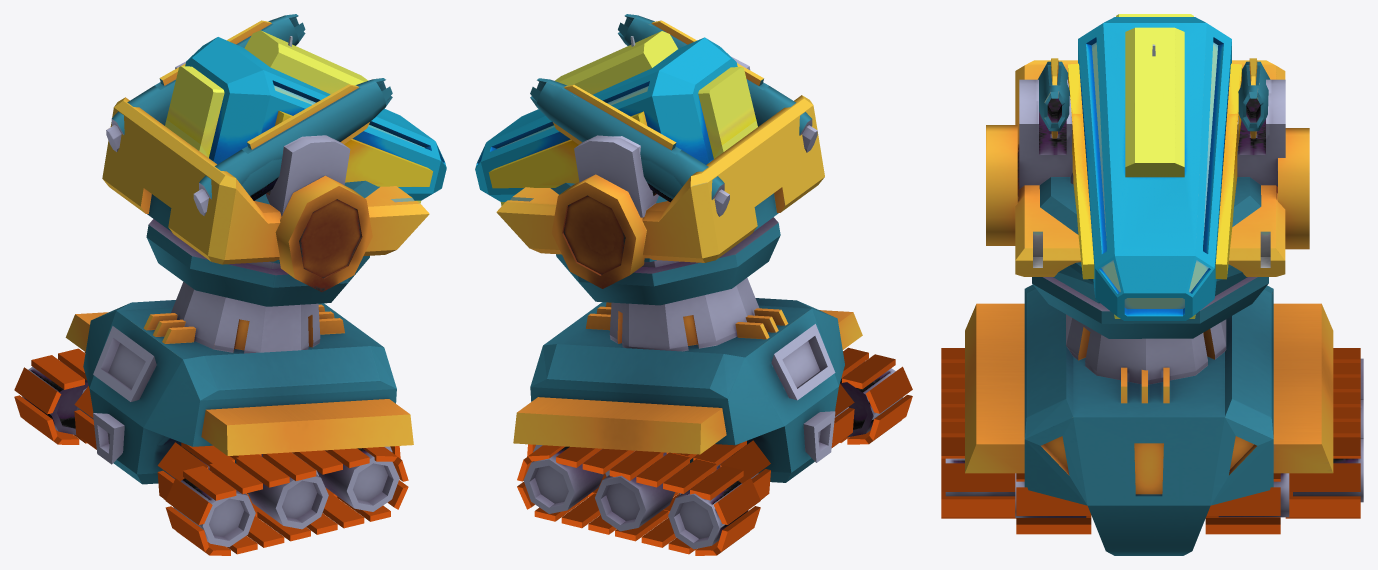
The model's file is Player_move_2_Upgrade10.obj.
The picture shows the model from 3 angles, left to right: view 1: azimuth 30°, elevation 25°; view 2: azimuth 150°, elevation 25°; view 3: azimuth 270°, elevation 25°; orthographic projection. The views are drawn at different scales.
Parts seen in each view (by area): view 1: Object015, Box020, Object014, Box018, Box019, Box017, Box016; view 2: Object015, Box019, Object014, Box018, Box020, Box016, Box017; view 3: Object015, Box019, Box020, Object014, Box016, Box017, Box018, Box009.
Boxes of the visible parts, x1,y1,x2,y2 form: Object015: (65, 30, 446, 484); Box020: (165, 447, 408, 555); Object014: (106, 14, 392, 215); Box018: (22, 364, 399, 546); Box019: (14, 348, 86, 444); Box017: (157, 442, 400, 518); Box016: (74, 386, 96, 449); Object015: (475, 31, 862, 482); Box019: (517, 445, 760, 555); Object014: (530, 14, 817, 216); Box018: (523, 362, 902, 549); Box020: (840, 347, 912, 444); Box016: (527, 440, 770, 513); Box017: (831, 383, 854, 447); Object015: (965, 14, 1333, 555); Box019: (1285, 348, 1360, 518); Box020: (941, 348, 1016, 518); Object014: (1038, 58, 1270, 138); Box016: (1205, 473, 1280, 534); Box017: (1016, 473, 1091, 534); Box018: (945, 358, 1363, 502); Box009: (1015, 473, 1289, 517).
Size of the model in its own units: 70.38 by 88.9 by 68.55.
Materials: 6 (4 with a texture image).
